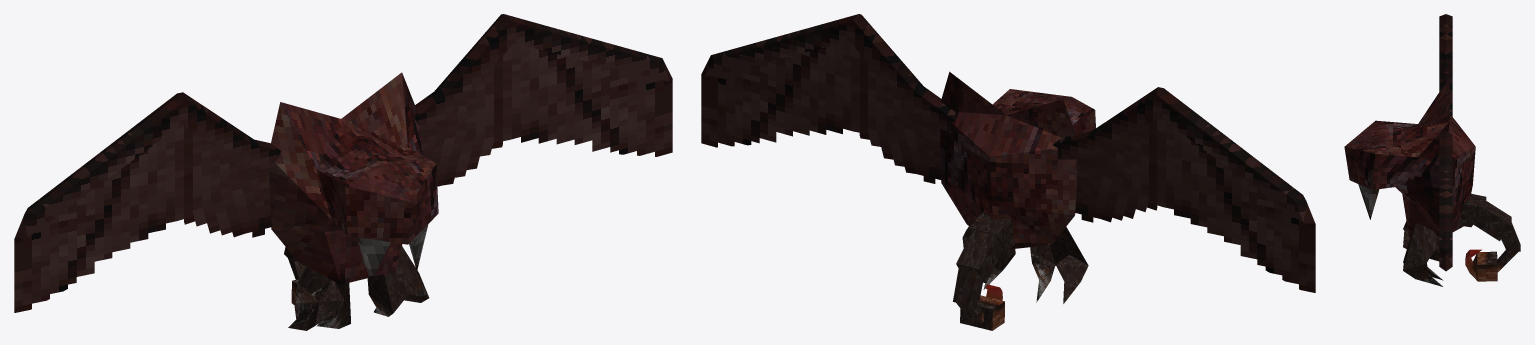
Rendered from manticore.obj.
3 renders of one model, left to right at view 1: azimuth 30°, elevation 25°; view 2: azimuth 150°, elevation 25°; view 3: azimuth 270°, elevation 25°, orthographic. The views are drawn at different scales.
Parts seen in each view (by area): view 1: RightWing, LeftWing, Body, RightLeg, LeftLeg; view 2: RightWing, LeftWing, Body, Tail, RightLeg, LeftLeg; view 3: Body, Tail, LeftWing, LeftLeg, RightWing.
Part boxes in pixels (bbox=[...]): RightWing: bbox=[14, 92, 280, 312]; LeftWing: bbox=[414, 14, 672, 186]; Body: bbox=[268, 72, 438, 284]; RightLeg: bbox=[288, 263, 350, 330]; LeftLeg: bbox=[367, 246, 429, 316]; RightWing: bbox=[1053, 87, 1315, 292]; LeftWing: bbox=[701, 14, 956, 183]; Body: bbox=[940, 71, 1095, 249]; Tail: bbox=[953, 211, 1014, 330]; RightLeg: bbox=[1030, 227, 1088, 303]; LeftLeg: bbox=[962, 226, 1015, 289]; Body: bbox=[1344, 77, 1475, 236]; Tail: bbox=[1459, 193, 1520, 281]; LeftWing: bbox=[1439, 131, 1452, 271]; LeftLeg: bbox=[1403, 224, 1443, 286]; RightWing: bbox=[1439, 14, 1452, 117].
Size of the model in its own units: 2.6 by 1.02 by 0.8055.
